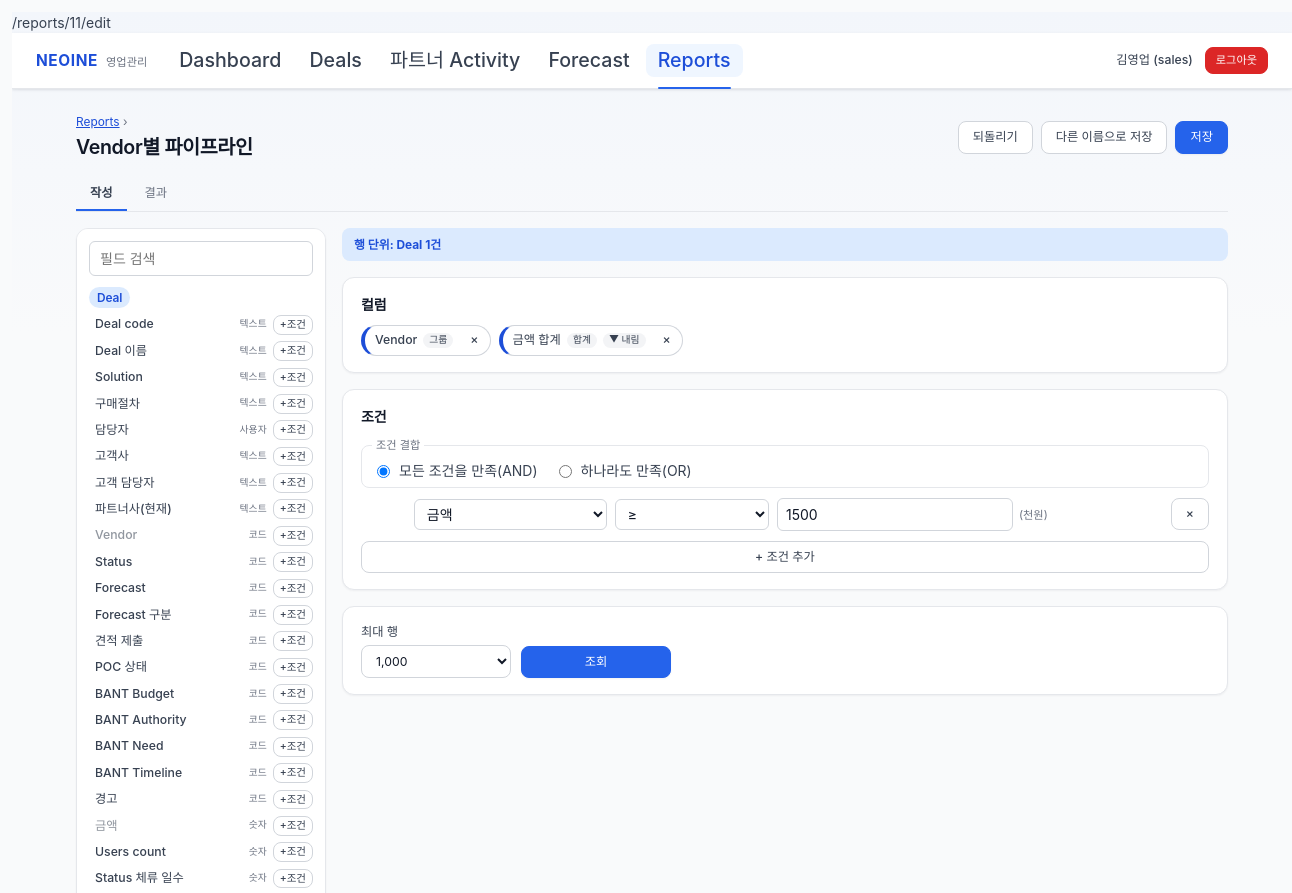
Test: 저장된 차트 열기 (AC18) › offers to make a chart for a saved report without one
Click the tab "결과".
click(156, 194)  # box [130, 178, 181, 211]
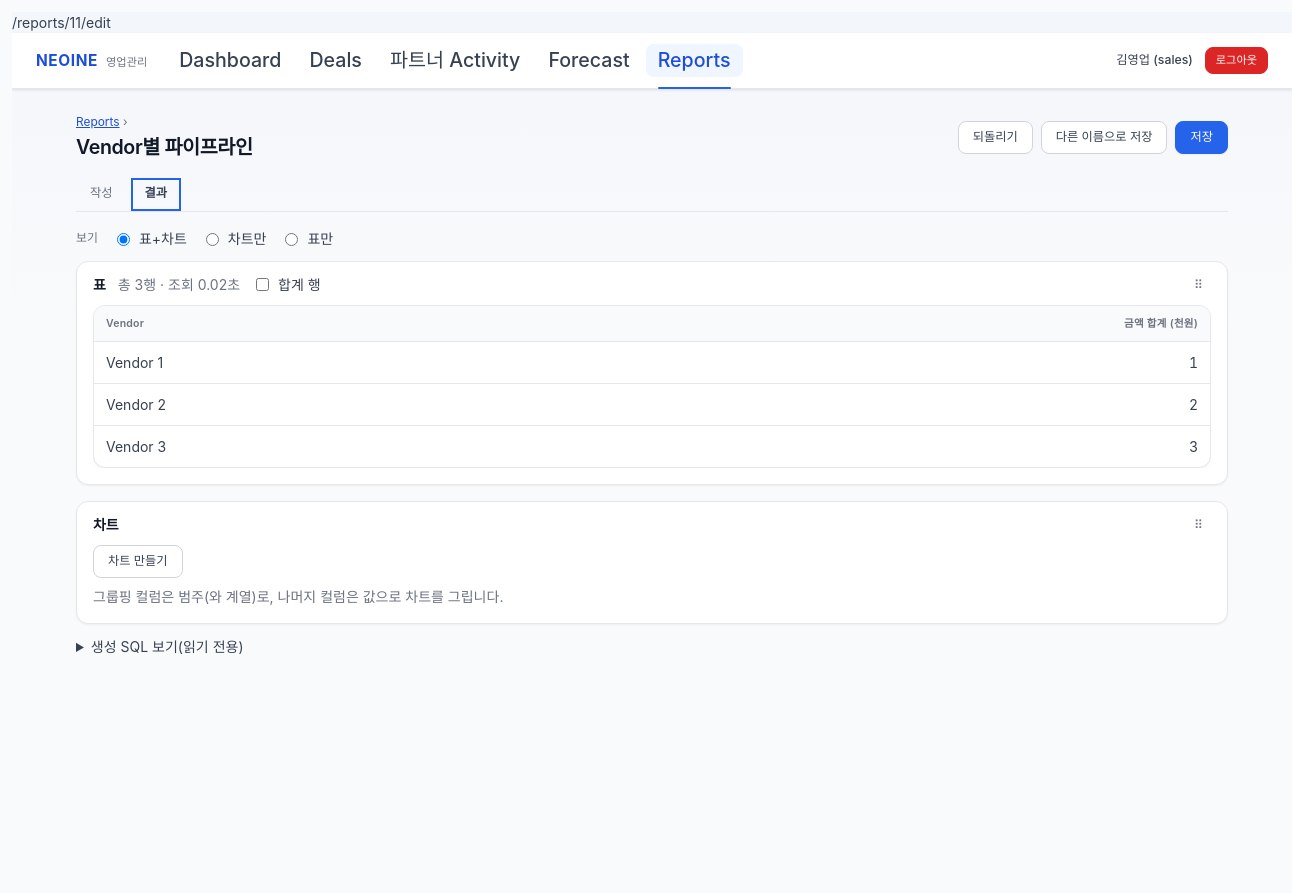
expect the button "차트 만들기" is enabled: met, box [93, 545, 183, 578]
expect the element named "차트 타일" is shown: met, box [76, 501, 1228, 624]
